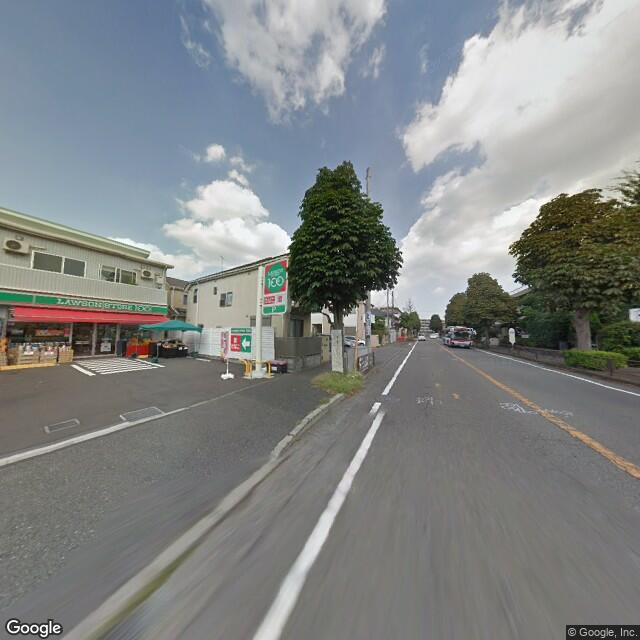lawson: (1, 286, 168, 318), (261, 254, 291, 297)
